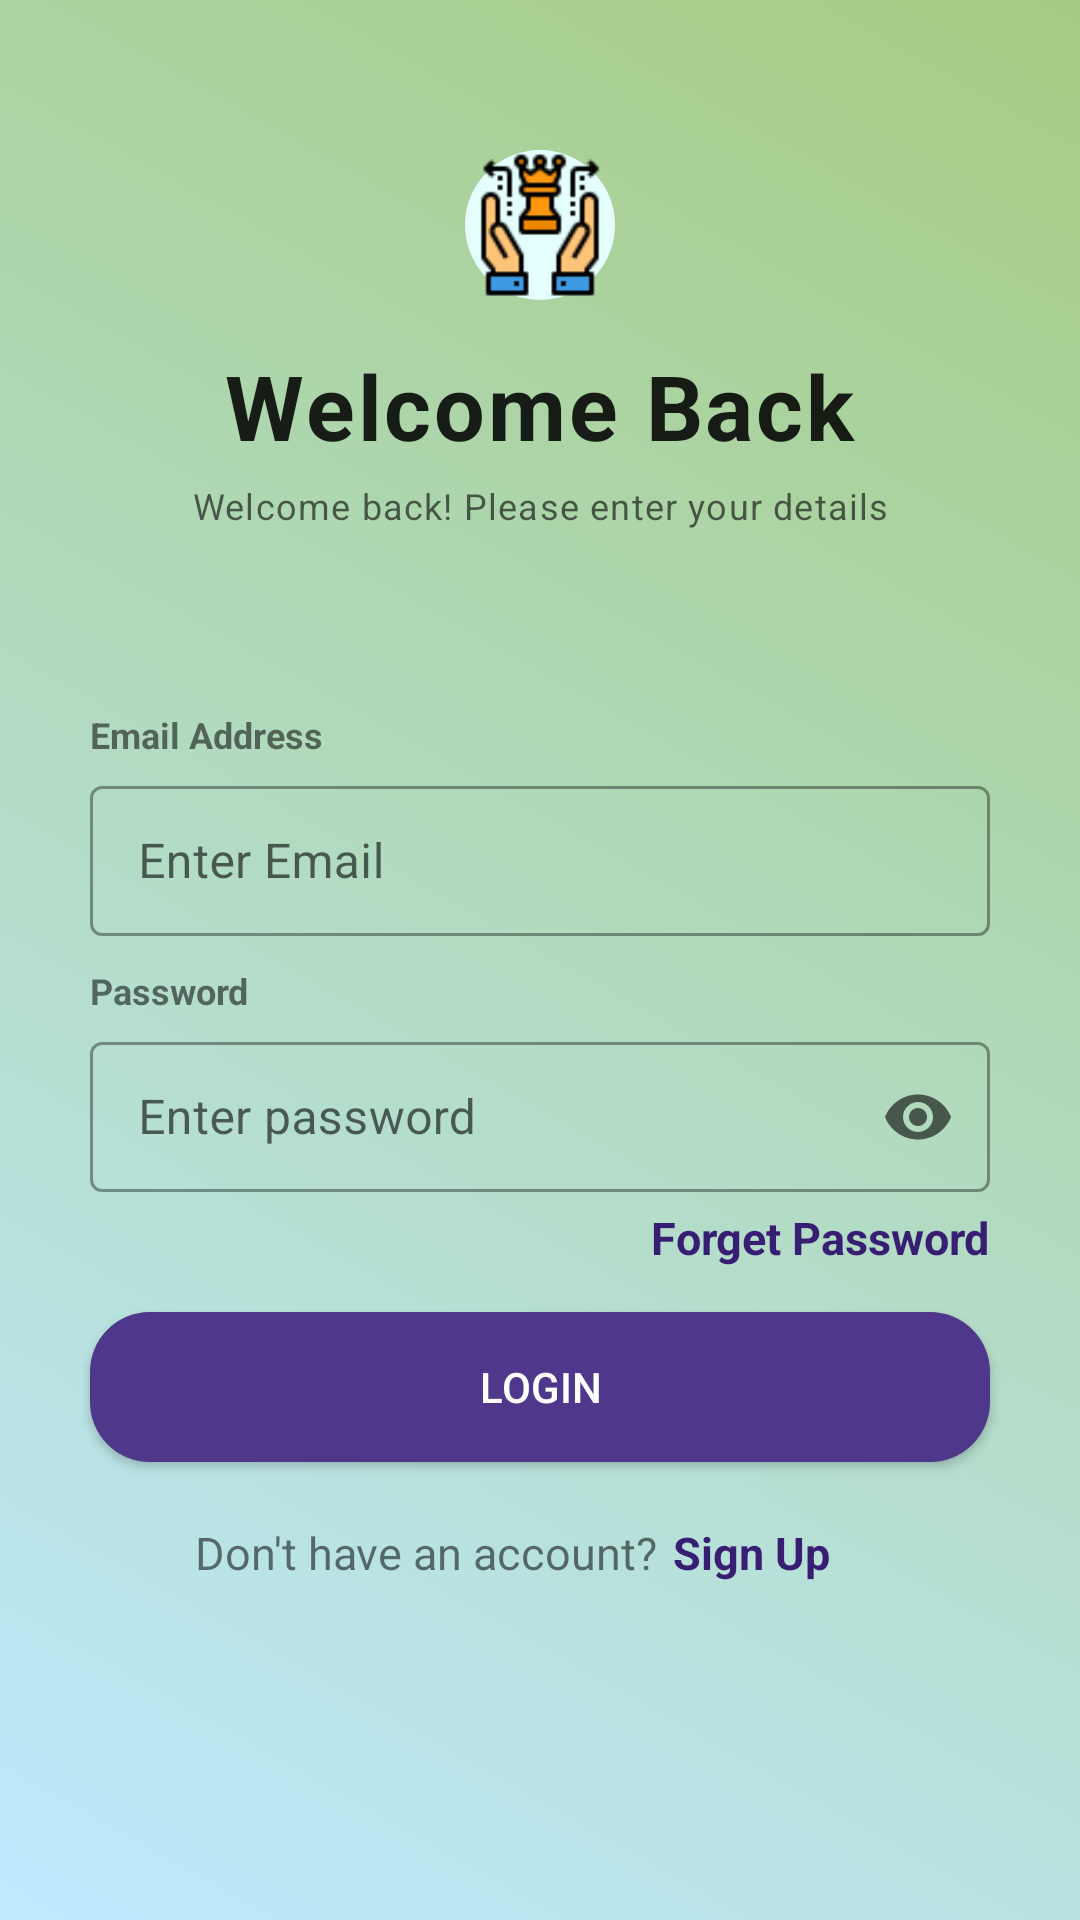

Where to tap for icons on this 1080 x 1920 app screen, as point (x, y):
gameicon: point (540, 225)
